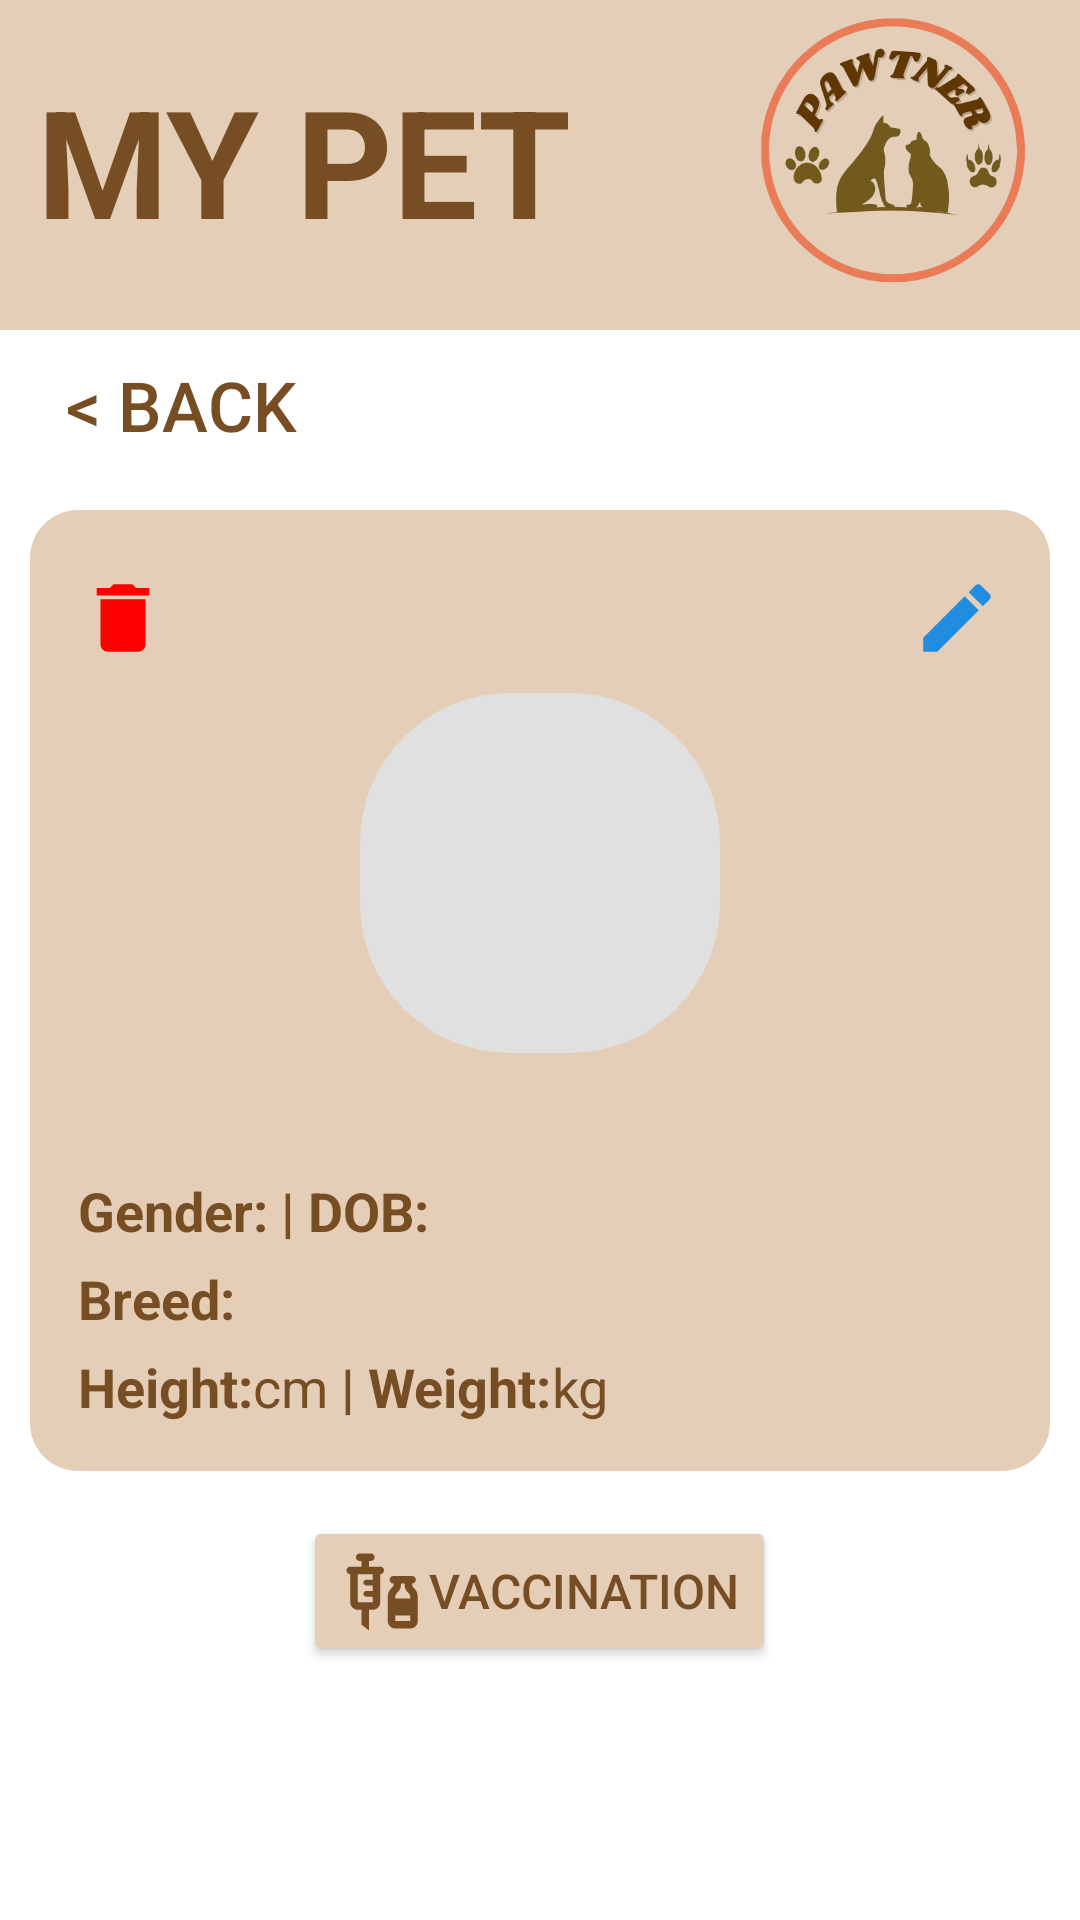

Icons on this 1080px×1920px Android screen, each with the point to tap as [x,y]:
Delete Icon: [123,618]
Update Icon: [957,618]
